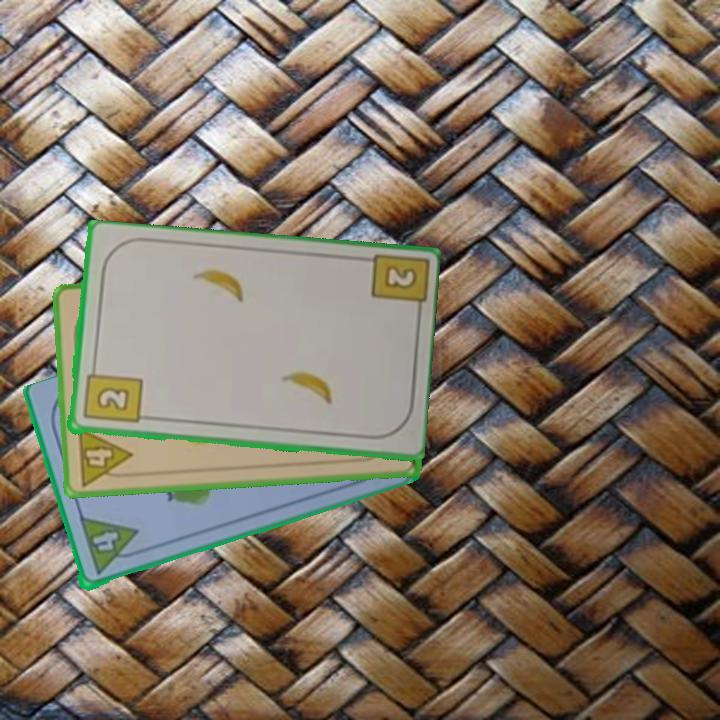2b: (79, 361, 144, 426), (380, 262, 420, 293)
4p: (76, 514, 146, 579), (74, 424, 136, 489)
